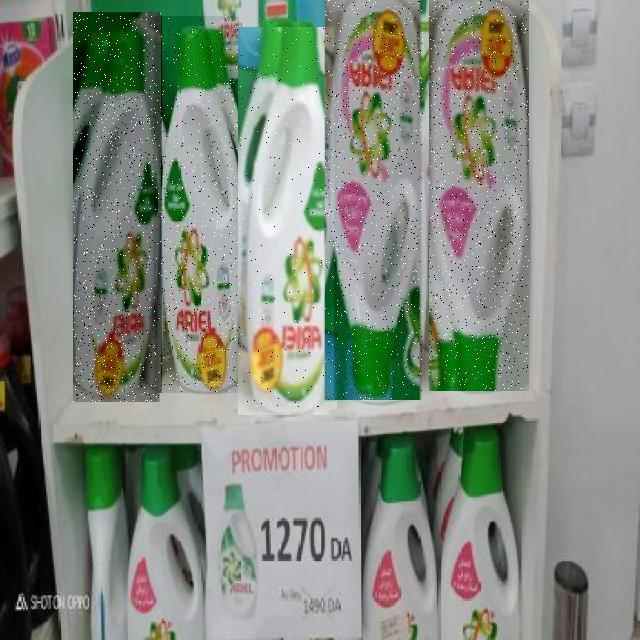Detergent: (326, 0, 424, 400), (429, 0, 529, 391), (238, 27, 337, 415), (74, 12, 162, 402), (156, 16, 239, 393)
